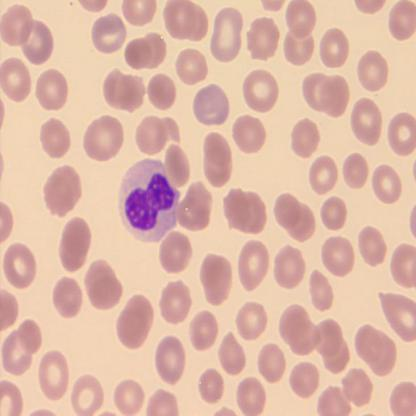Metamyelocyte: (116, 156, 182, 247)
